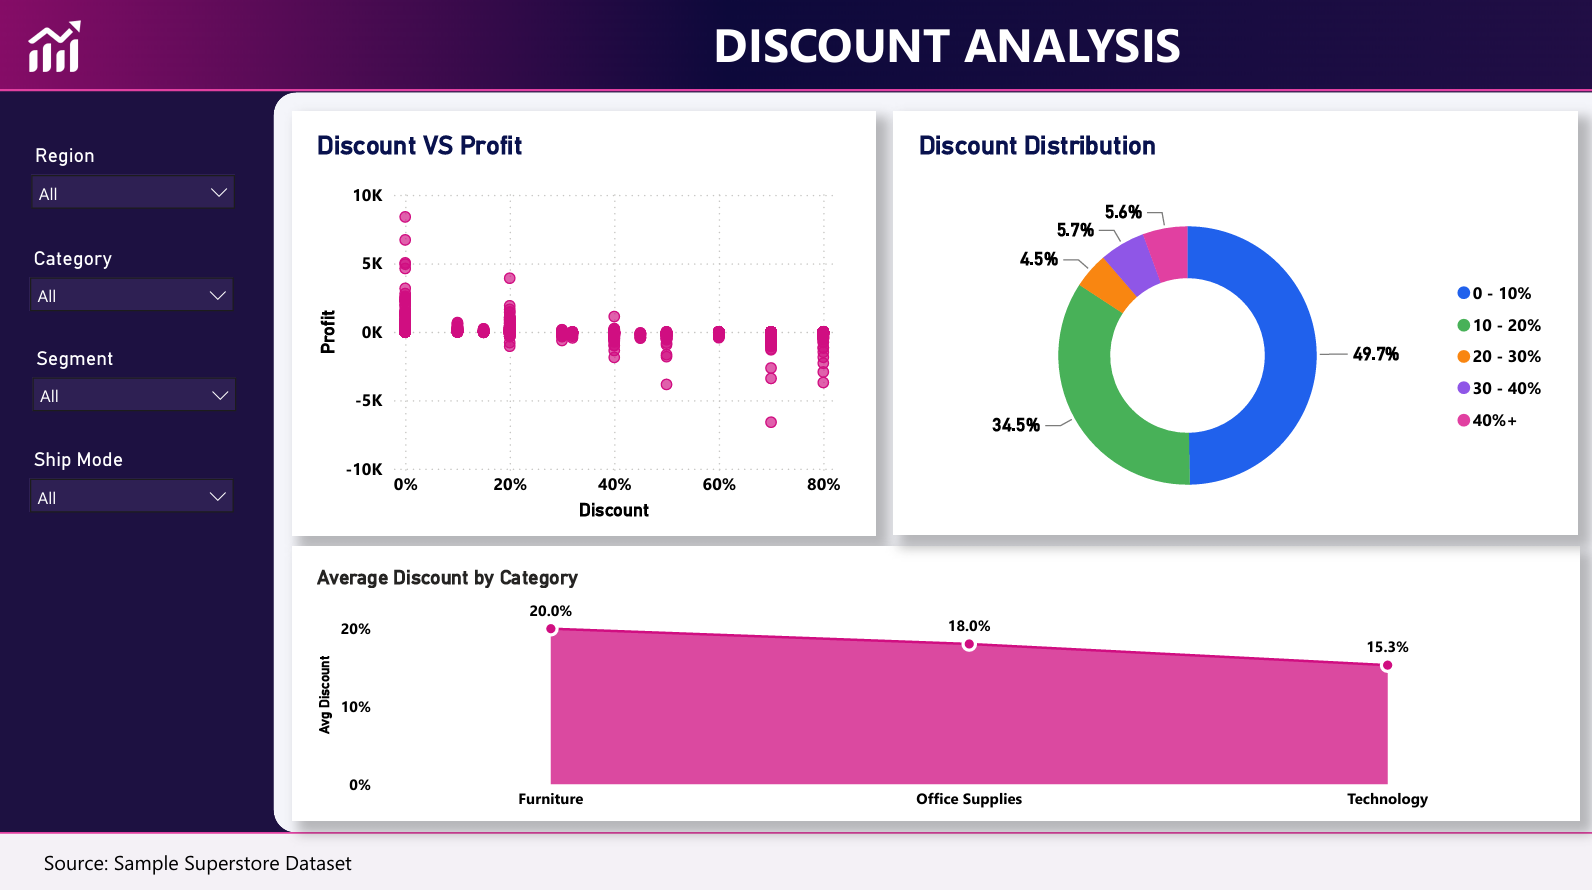

This screenshot's page, from the dashboard's own definition file:
{"tool":"powerbi","page":{"name":"Discount Analysis","canvas":[1280,720],"ordinal":3},"visuals":[{"type":"shape","box":[222.5,77.5,1057.5,592.5],"z":0},{"type":"image","box":[1.2,0,1278.5,77],"z":1000},{"type":"textbox","box":[243.8,9,1036.2,63.8],"z":2000},{"type":"shape","box":[0,670.3,1279.8,49.7],"z":4000},{"type":"textbox","box":[33.8,670,530,50],"z":5000},{"type":"slicer","fields":{"Values":["Cleaned_Superstore.Region"]},"box":[19.3,114.4,182.6,81.4],"z":6000},{"type":"slicer","fields":{"Values":["Cleaned_Superstore.Category"]},"box":[18.1,195.8,182.6,81.4],"z":7000},{"type":"slicer","fields":{"Values":["Cleaned_Superstore.Segment"]},"box":[20.4,276,182.6,81.4],"z":8000},{"type":"slicer","fields":{"Values":["Cleaned_Superstore.Ship_Mode"]},"box":[18.1,357.4,182.6,81.4],"z":9000},{"type":"image","box":[0,16.2,93.8,51.2],"z":10000},{"type":"scatterChart","title":"Discount VS Profit","fields":{"X":["Sum(Cleaned_Superstore.Discount)"],"Y":["Sum(Cleaned_Superstore.Profit)"],"Category":["Cleaned_Superstore.Index"]},"box":[237.5,92.5,467.5,340],"z":11000},{"type":"areaChart","title":"Average Discount by Category","fields":{"Category":["Cleaned_Superstore.Category"],"Y":["Avg(Cleaned_Superstore.Discount)"]},"box":[237.5,441.2,1030,220],"z":12000},{"type":"donutChart","title":"Discount Distribution","fields":{"Y":["Sum(Cleaned_Superstore.Sales)"],"Series":["Cleaned_Superstore.Discountper"]},"box":[718.7,93.1,548.6,338.9],"z":13000}]}

Visuals, with their boxes in screenshot pixels (x1, y1, x2, y2), scaled from the page's 1280x720 canvas onto the 1592x890 screenshot:
shape: BBox(277, 96, 1591, 828)
image: BBox(1, 0, 1591, 95)
textbox: BBox(303, 11, 1591, 90)
shape: BBox(0, 829, 1591, 889)
textbox: BBox(42, 828, 701, 889)
slicer - Cleaned_Superstore.Region: BBox(24, 141, 251, 242)
slicer - Cleaned_Superstore.Category: BBox(23, 242, 250, 343)
slicer - Cleaned_Superstore.Segment: BBox(25, 341, 252, 442)
slicer - Cleaned_Superstore.Ship_Mode: BBox(23, 442, 250, 542)
image: BBox(0, 20, 117, 83)
"Discount VS Profit" scatterChart: BBox(295, 114, 877, 535)
"Average Discount by Category" areaChart: BBox(295, 545, 1576, 817)
"Discount Distribution" donutChart: BBox(894, 115, 1576, 534)
